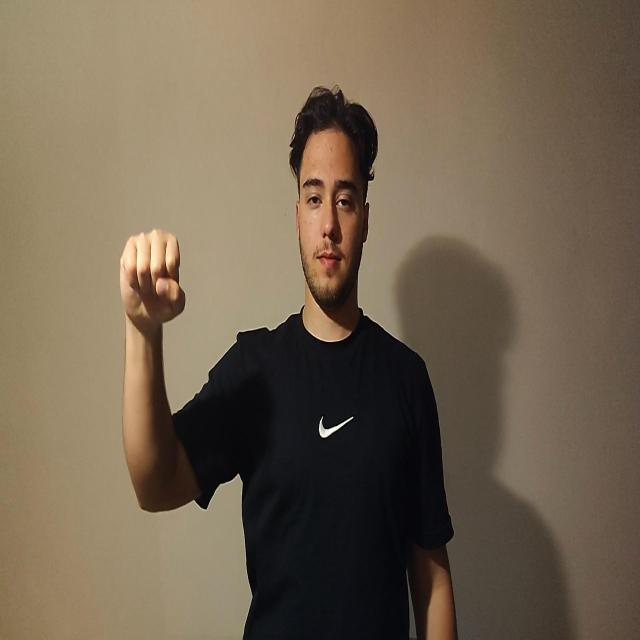yes: (119, 227, 186, 337)
